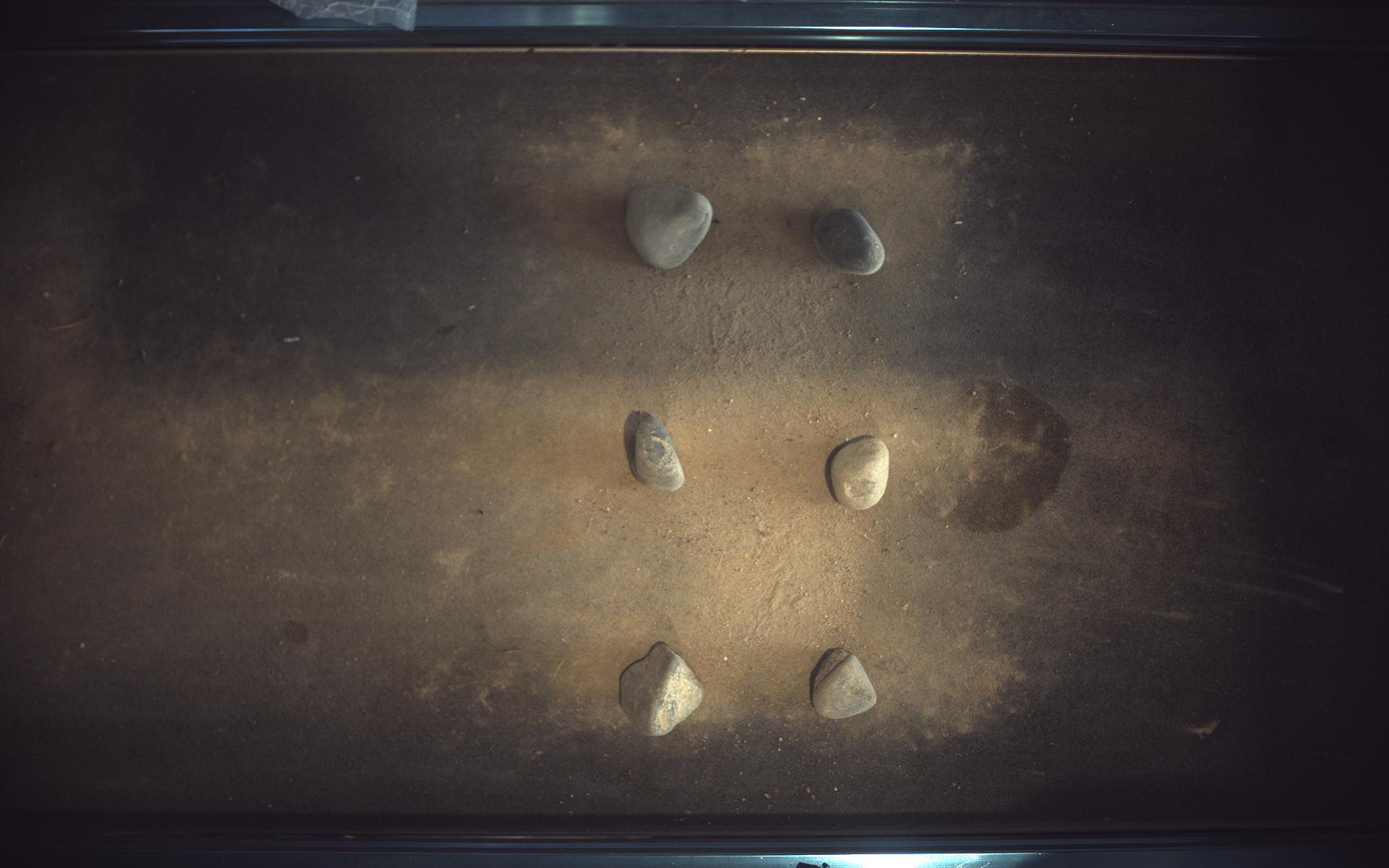stone: (621, 642, 705, 738), (628, 184, 713, 269), (624, 412, 686, 492), (815, 208, 886, 275), (812, 649, 878, 720), (832, 437, 890, 511)
